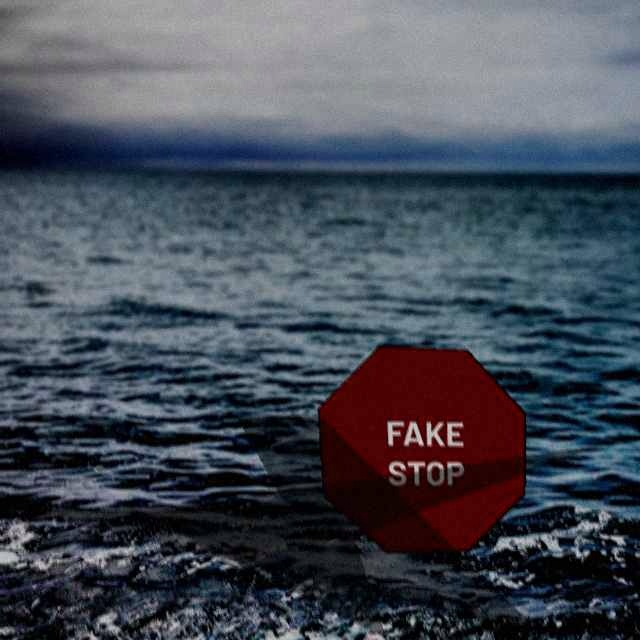FAKE_STOP: (316, 344, 525, 552)
